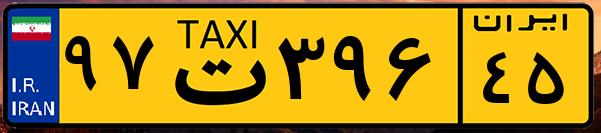3: (270, 28, 330, 110)
4: (475, 38, 525, 113)
5: (525, 38, 570, 115)
6: (385, 28, 445, 110)
7: (110, 28, 158, 98)
9: (330, 28, 385, 110), (57, 26, 110, 100)
ت: (158, 12, 270, 120)
